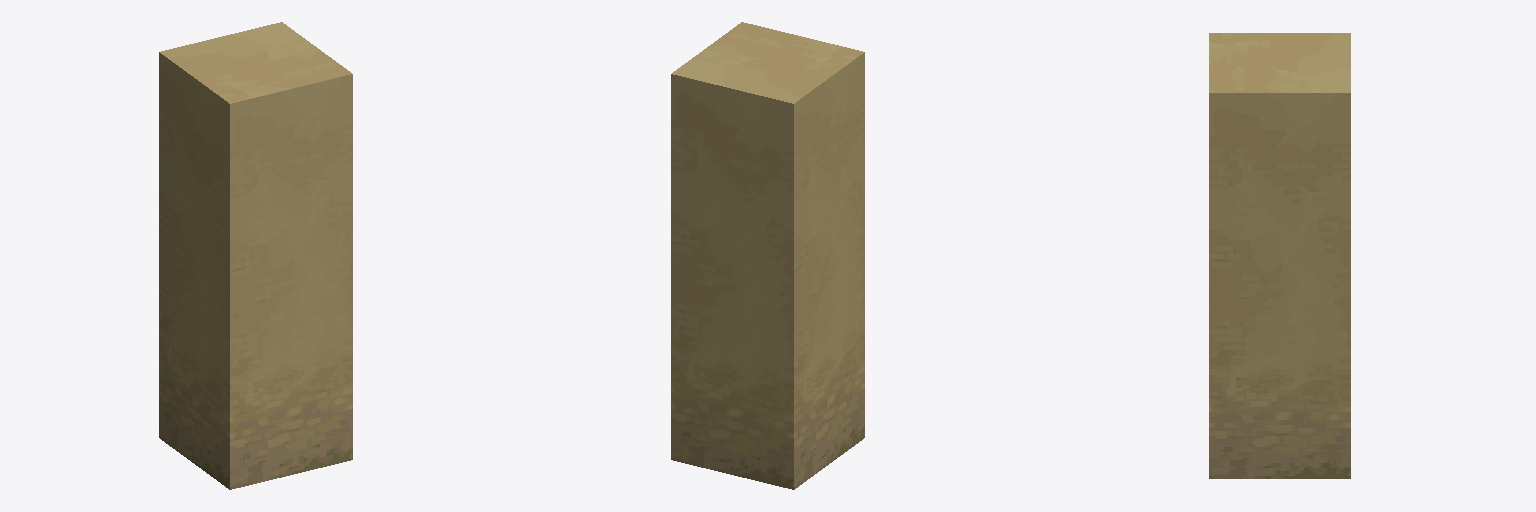
3 renders of one model, left to right at view 1: azimuth 30°, elevation 25°; view 2: azimuth 150°, elevation 25°; view 3: azimuth 270°, elevation 25°, orthographic.
Visible parts, largest first — view 1: cuboid; view 2: cuboid; view 3: cuboid.
Part boxes in pixels (left/top/right/bottom): cuboid: left=159, top=22, right=352, bottom=489; cuboid: left=671, top=22, right=864, bottom=489; cuboid: left=1209, top=33, right=1350, bottom=478.
Bounding box in the file's own units: 2 × 6 × 2.
Materials: 1 (1 with a texture image).